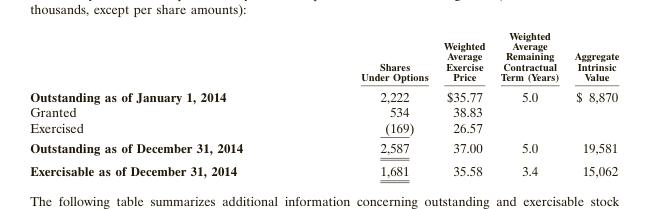table: (29, 28, 618, 178)
table column: (29, 28, 301, 178), (301, 28, 435, 178), (492, 28, 566, 178), (435, 28, 492, 178), (566, 28, 618, 178)
table column header: (29, 28, 618, 85)
table row: (29, 28, 618, 85), (29, 137, 618, 159), (29, 159, 618, 178), (29, 85, 618, 103), (29, 119, 618, 137), (29, 103, 618, 119)
